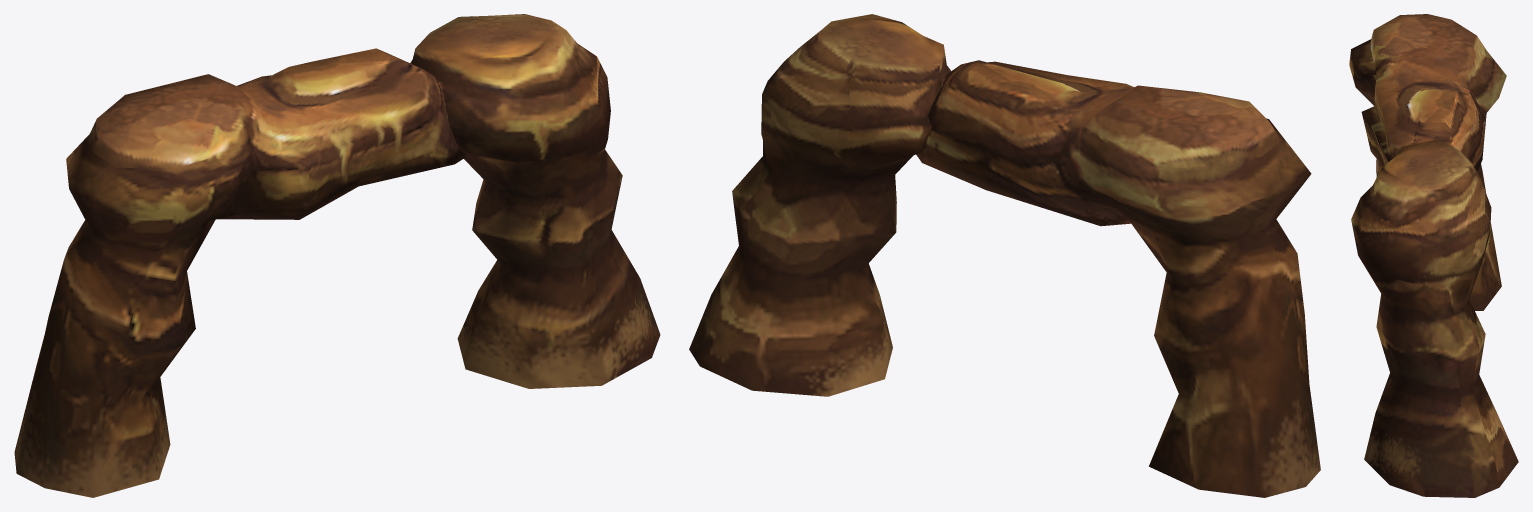
The model's file is GongMen01.FBX.
The picture shows the model from 3 angles, left to right: view 1: azimuth 30°, elevation 25°; view 2: azimuth 150°, elevation 25°; view 3: azimuth 270°, elevation 25°; orthographic projection. The views are drawn at different scales.
Parts seen in each view (by area): view 1: GongMne01; view 2: GongMne01; view 3: GongMne01.
Boxes of the visible parts, bbox=[...] form: GongMne01: bbox=[14, 14, 660, 497]; GongMne01: bbox=[689, 14, 1320, 497]; GongMne01: bbox=[1349, 14, 1518, 497].
Bounding box in the file's own units: 499 × 263 × 147.
